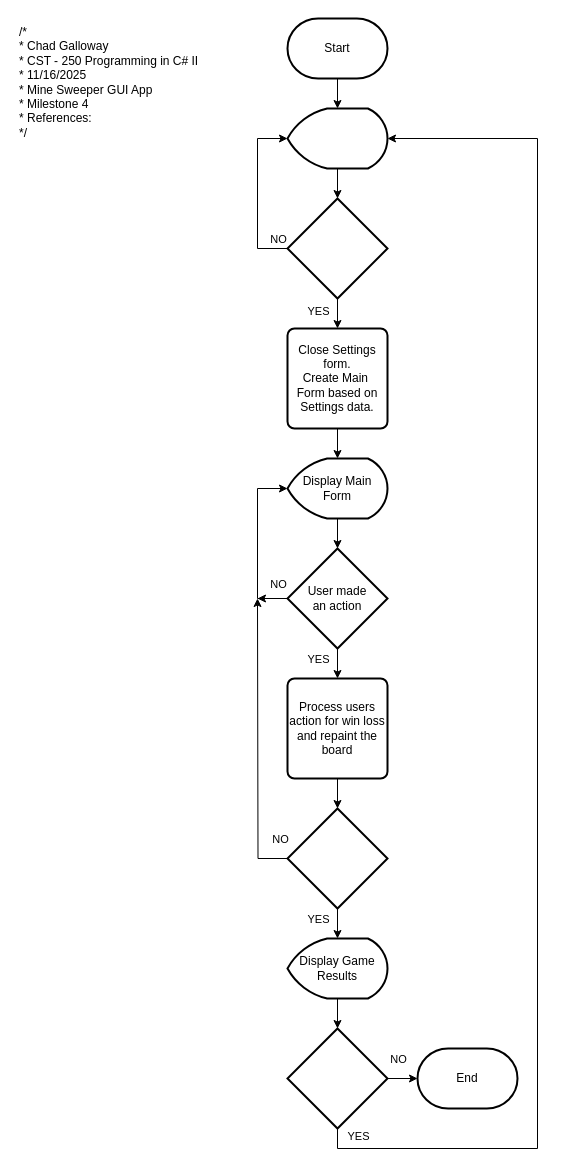
Image size: 563x1174. Some labels were removed from this diagram. Each missing label, with the centre of its shape:
Display Settings Form: the point at 337,138
User Clicked Play?: the point at 337,248
User Restarts?: the point at 337,1078
Win Loss?: the point at 337,858
